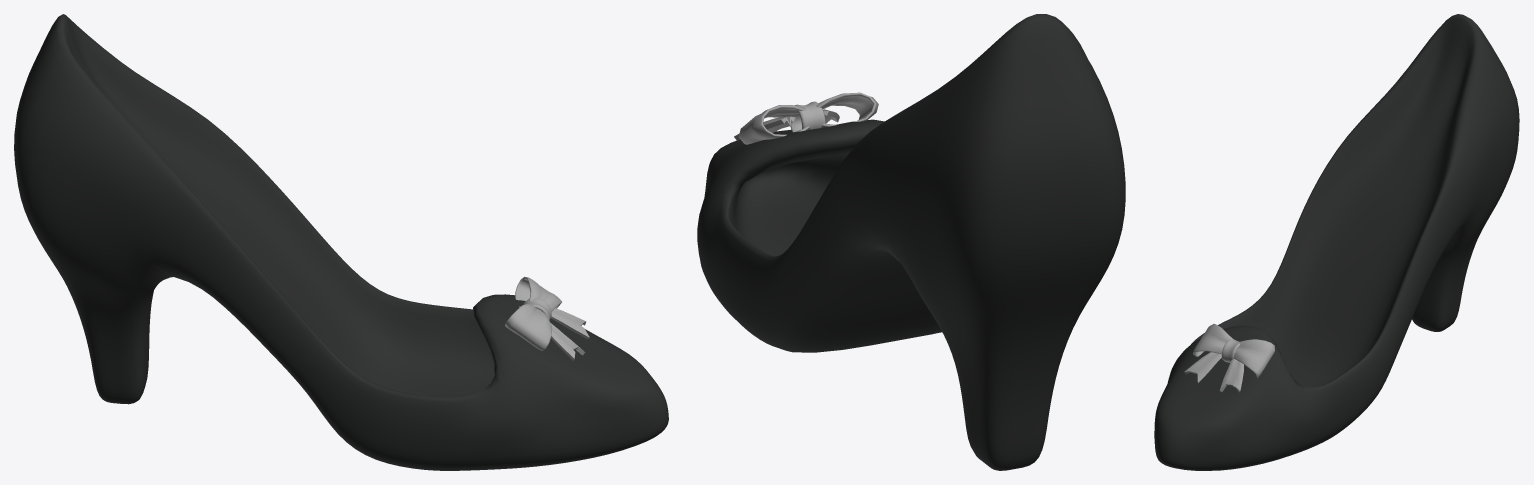
Rendered from RibbonHeel1.fbx.
3 views of the same model, side by side, from view 1: azimuth 30°, elevation 25°; view 2: azimuth 150°, elevation 25°; view 3: azimuth 270°, elevation 25° (orthographic). The views are drawn at different scales.
Visible parts, largest first — view 1: HeelRight1, RibbonCombined1; view 2: HeelRight1, RibbonCombined1; view 3: HeelRight1, RibbonCombined1.
Boxes of the visible parts, bbox=[...] form: HeelRight1: bbox=[14, 14, 668, 470]; RibbonCombined1: bbox=[505, 276, 589, 360]; HeelRight1: bbox=[697, 14, 1125, 470]; RibbonCombined1: bbox=[734, 92, 878, 144]; HeelRight1: bbox=[1154, 14, 1519, 470]; RibbonCombined1: bbox=[1184, 324, 1274, 392].
Bounding box in the file's own units: 3.03 × 2.41 × 2.57.
1 material, 1 textured.
